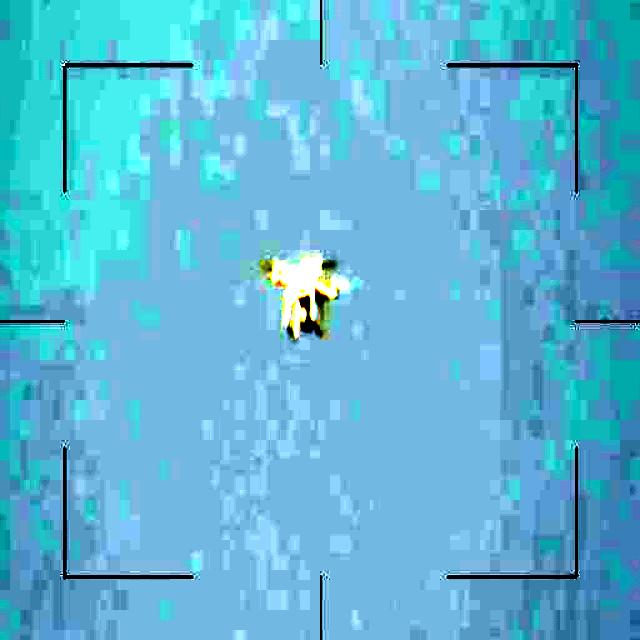bird: (260, 252, 352, 340)
